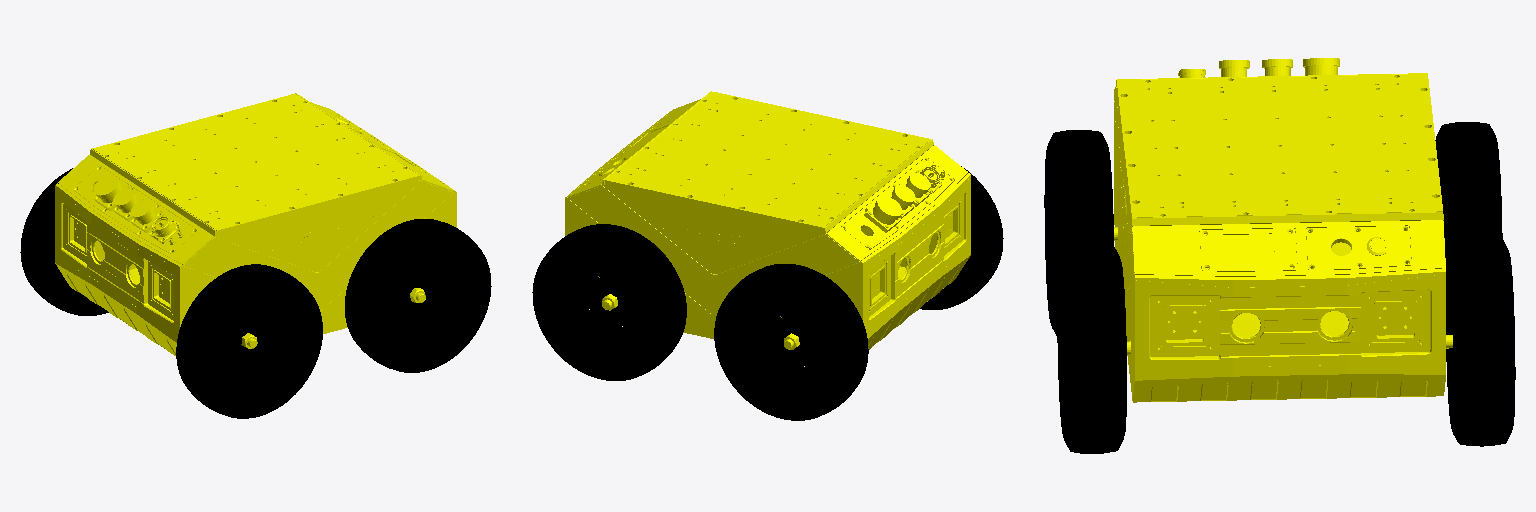
The robot description file, URDF, robot "mr500_description":
<?xml version="1.0" encoding="utf-8"?>
<!-- This URDF was automatically created by SolidWorks to URDF Exporter! Originally created by [author] ([email redacted]) 
     Commit Version: 1.5.0-0-g9aa0fdb  Build Version: 1.5.7004.21443
     For more information, please see http://wiki.ros.org/sw_urdf_exporter -->
<robot
  name="mr500_description">
  <link
    name="base_link">
    <inertial>
      <origin
        xyz="0.0074607 0.0002745 0.090874"
        rpy="0 0 0" />
      <mass
        value="14.255" />
      <inertia
        ixx="0.074782"
        ixy="-0.0027052"
        ixz="-0.00045988"
        iyy="0.13178"
        iyz="-1.7679E-05"
        izz="0.17846" />
    </inertial>
    <visual>
      <origin
        xyz="0 0 0.061"
        rpy="0 0 0" />
      <geometry>
        <mesh
          filename="package://mr500_description/meshes/base_link.STL" />
      </geometry>
      <material
        name="">
        <color
          rgba="1 1 0 1" />
      </material>
    </visual>
    <collision>
      <origin
        xyz="0 0 0"
        rpy="0 0 0" />
      <geometry>
        <mesh
          filename="package://mr500_description/meshes/base_link.STL" />
      </geometry>
    </collision>
  </link>
  <link
    name="L1">
    <inertial>
      <origin
        xyz="3.17E-05 -0.01085 -6.2432E-05"
        rpy="0 0 0" />
      <mass
        value="1.2687" />
      <inertia
        ixx="0.0031792"
        ixy="2.1349E-07"
        ixz="-6.6917E-07"
        iyy="0.0057572"
        iyz="-6.522E-07"
        izz="0.0031824" />
    </inertial>
    <visual>
      <origin
        xyz="0 0 0"
        rpy="0 0 0" />
      <geometry>
        <mesh
          filename="package://mr500_description/meshes/L1.STL" />
      </geometry>
      <material
        name="">
        <color
          rgba="0 0 0 1" />
      </material>
    </visual>
    <collision>
      <origin
        xyz="0 0 0"
        rpy="0 0 0" />
      <geometry>
        <mesh
          filename="package://mr500_description/meshes/L1.STL" />
      </geometry>
    </collision>
  </link>
  <joint
    name="JL1"
    type="continuous">
    <origin
      xyz="0.13022 0.20389 0.1"
      rpy="0 0 0.047333" />
    <parent
      link="base_link" />
    <child
      link="L1" />
    <axis
      xyz="0 -1 0" />
    <safety_controller
      k_velocity="0" />
  </joint>
  <link
    name="L2">
    <inertial>
      <origin
        xyz="6.8291E-05 -0.01085 1.5457E-05"
        rpy="0 0 0" />
      <mass
        value="1.2687" />
      <inertia
        ixx="0.0031826"
        ixy="6.8461E-07"
        ixz="-1.7379E-07"
        iyy="0.0057572"
        iyz="4.7381E-08"
        izz="0.0031791" />
    </inertial>
    <visual>
      <origin
        xyz="0 0 0"
        rpy="0 0 0" />
      <geometry>
        <mesh
          filename="package://mr500_description/meshes/L1.STL" />
      </geometry>
      <material
        name="">
        <color
          rgba="0 0 0 1" />
      </material>
    </visual>
    <collision>
      <origin
        xyz="0 0 0"
        rpy="0 0 0" />
      <geometry>
        <mesh
          filename="package://mr500_description/meshes/L1.STL" />
      </geometry>
    </collision>
  </link>
  <joint
    name="JL2"
    type="continuous">
    <origin
      xyz="-0.12949 0.19159 0.1"
      rpy="0 0 0.047333" />
    <parent
      link="base_link" />
    <child
      link="L2" />
    <axis
      xyz="0 -1 0" />
    <safety_controller
      k_velocity="0" />
  </joint>
  <link
    name="R1">
    <inertial>
      <origin
        xyz="-6.7364E-05 -0.010648 1.4429E-05"
        rpy="0 0 0" />
      <mass
        value="1.2687" />
      <inertia
        ixx="0.0031823"
        ixy="6.2693E-07"
        ixz="-7.7345E-07"
        iyy="0.0057572"
        iyz="-1.6114E-07"
        izz="0.0031793" />
    </inertial>
    <visual>
      <origin
        xyz="0 0 0"
        rpy="0 0 0" />
      <geometry>
        <mesh
          filename="package://mr500_description/meshes/L1.STL" />
      </geometry>
      <material
        name="">
        <color
          rgba="0 0 0 1" />
      </material>
    </visual>
    <collision>
      <origin
        xyz="0 0 0"
        rpy="0 0 0" />
      <geometry>
        <mesh
          filename="package://mr500_description/meshes/L1.STL" />
      </geometry>
    </collision>
  </link>
  <joint
    name="JR1"
    type="continuous">
    <origin
      xyz="0.14891 -0.19067 0.1"
      rpy="-3.1416 0 0.047333" />
    <parent
      link="base_link" />
    <child
      link="R1" />
    <axis
      xyz="0 -1 0" />
    <safety_controller
      k_velocity="0" />
  </joint>
  <link
    name="R2">
    <inertial>
      <origin
        xyz="-6.7653E-05 -0.010648 -1.3009E-05"
        rpy="0 0 0" />
      <mass
        value="1.2687" />
      <inertia
        ixx="0.0031824"
        ixy="6.401E-07"
        ixz="5.597E-07"
        iyy="0.0057572"
        iyz="9.6349E-08"
        izz="0.0031792" />
    </inertial>
    <visual>
      <origin
        xyz="0 0 0"
        rpy="0 0 0" />
      <geometry>
        <mesh
          filename="package://mr500_description/meshes/L1.STL" />
      </geometry>
      <material
        name="">
        <color
          rgba="0 0 0 1" />
      </material>
    </visual>
    <collision>
      <origin
        xyz="0 0 0"
        rpy="0 0 0" />
      <geometry>
        <mesh
          filename="package://mr500_description/meshes/L1.STL" />
      </geometry>
    </collision>
  </link>
  <joint
    name="JR2"
    type="continuous">
    <origin
      xyz="-0.1108 -0.20297 0.1"
      rpy="-3.1416 0 0.047333" />
    <parent
      link="base_link" />
    <child
      link="R2" />
    <axis
      xyz="0 -1 0" />
    <safety_controller
      k_velocity="0" />
  </joint>

  <link 
    name="imu_link">
  </link>
  <joint
    name="imu_joint"
    type="fixed">
    <origin
      xyz="0.0 0.0 0.246"
      rpy="0.0 0.0 0.0"/>
    <parent
      link="base_link"/>
    <child
      link="imu_link"/>
  </joint>
</robot>

--- Render facts (derived) ---
3 views of the same robot in one strip: view 1: azimuth 30°, elevation 25°; view 2: azimuth 150°, elevation 25°; view 3: azimuth 270°, elevation 25° (orthographic).
Model mr500_description with 6 links and 5 joints (4 continuous, 1 fixed), rooted at base_link, posed every joint at zero.
Links seen in each view (by area): view 1: base_link, R2, R1, L2; view 2: base_link, L2, L1, R2; view 3: base_link, R1, L1, R2, L2.
Boxes of the visible links, x1,y1,x2,y2 form: base_link: (55, 93, 456, 355); R2: (176, 264, 322, 418); R1: (345, 219, 491, 372); L2: (20, 168, 108, 315); base_link: (565, 91, 970, 349); L2: (714, 264, 868, 420); L1: (532, 224, 686, 380); R2: (920, 166, 1003, 309); base_link: (1114, 58, 1452, 402); R1: (1057, 244, 1126, 453); L1: (1446, 236, 1515, 446); R2: (1044, 130, 1113, 335); L2: (1435, 122, 1502, 267).
Bounding box of the posed robot: 0.4801 × 0.4533 × 0.2589 m (x, y, z).
Meshes: 2 distinct files referenced, 5 mesh visuals loaded (2 binary STL).
